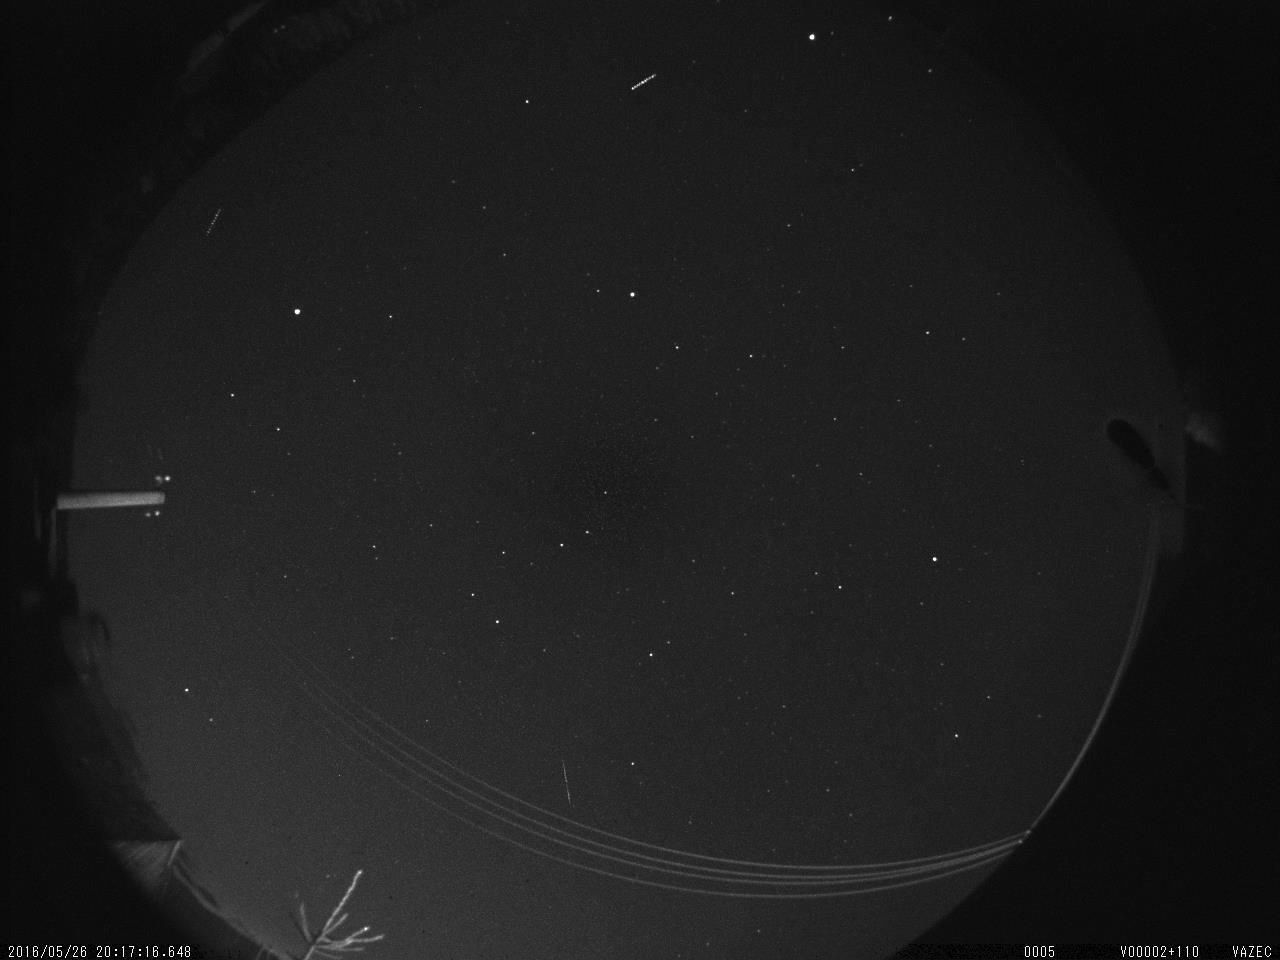Meteor: (558, 751, 582, 812)
